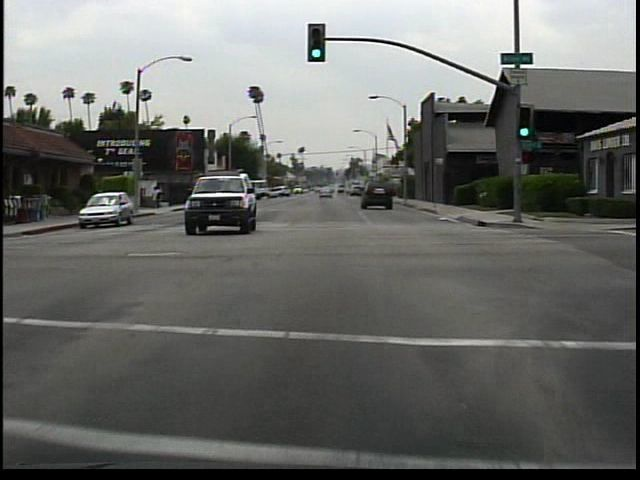person: (152, 182, 167, 212)
